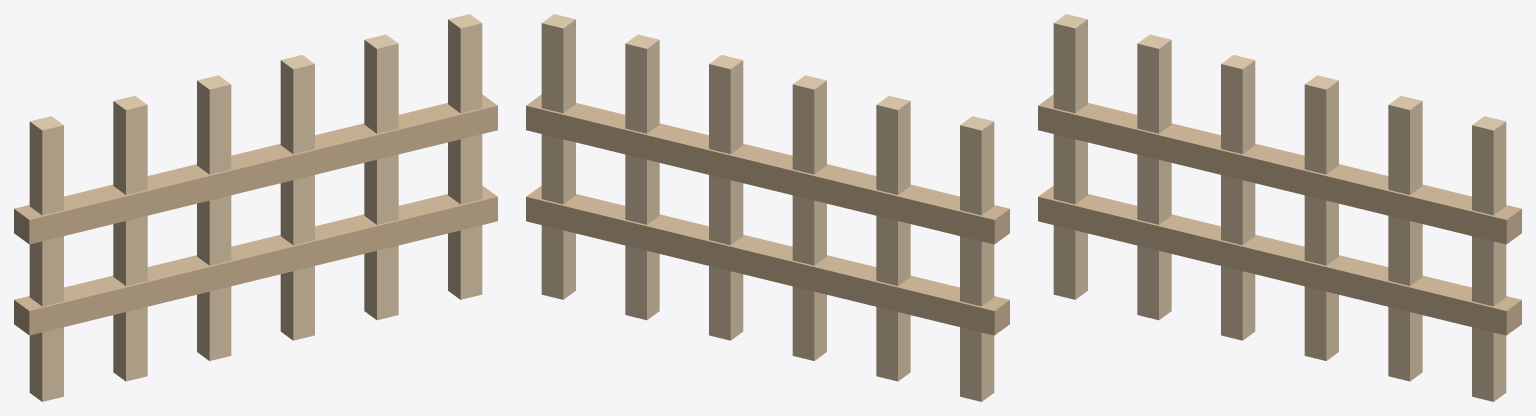
The model's file is picket-fence.glb.
3 renders of one model, left to right at view 1: azimuth 30°, elevation 25°; view 2: azimuth 150°, elevation 25°; view 3: azimuth 330°, elevation 25°, orthographic.
Parts seen in each view (by area): view 1: rail-low, rail-top, picket-2, picket-5, picket-4, picket-1, picket-3, picket-0; view 2: rail-low, rail-top, picket-2, picket-5, picket-4, picket-1, picket-3, picket-0; view 3: rail-low, rail-top, picket-0, picket-3, picket-1, picket-4, picket-2, picket-5.
Part boxes in pixels (box(x1,y1,x2,y2)): rail-low: box(14, 185, 497, 335); rail-top: box(14, 94, 497, 244); picket-2: box(197, 75, 231, 360); picket-5: box(448, 14, 482, 299); picket-4: box(364, 34, 398, 320); picket-1: box(113, 95, 147, 381); picket-3: box(280, 55, 314, 340); picket-0: box(29, 116, 63, 401); rail-low: box(526, 185, 1009, 335); rail-top: box(526, 94, 1009, 244); picket-2: box(792, 75, 826, 360); picket-5: box(541, 14, 575, 299); picket-4: box(625, 34, 659, 320); picket-1: box(876, 95, 910, 381); picket-3: box(709, 55, 743, 340); picket-0: box(960, 116, 994, 401); rail-low: box(1038, 185, 1521, 335); rail-top: box(1038, 94, 1521, 244); picket-0: box(1053, 14, 1087, 299); picket-3: box(1304, 75, 1338, 360); picket-1: box(1137, 34, 1171, 320); picket-4: box(1388, 95, 1422, 381); picket-2: box(1221, 55, 1255, 340); picket-5: box(1472, 116, 1506, 401).
Bounding box in the file's own units: 2.8 × 1.55 × 0.16.
